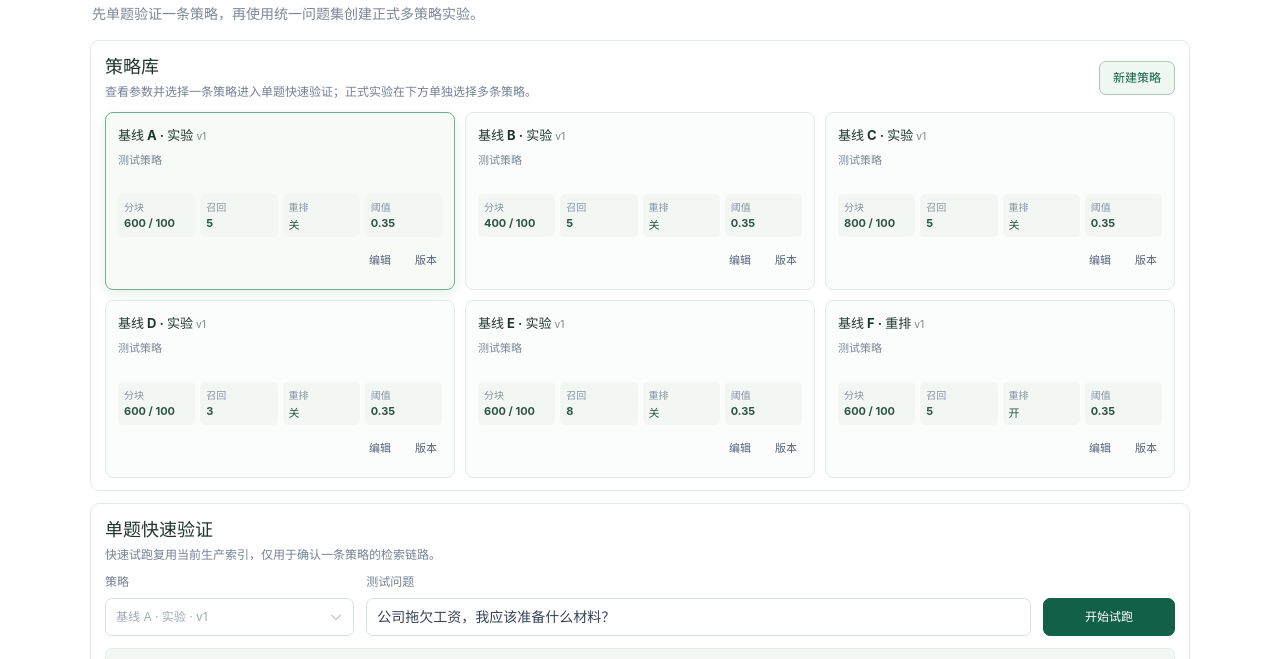
RetrievalExperimentView › shows the timeout message without misreporting a connection failure
What coordinates should you click on to do the following:
click the button "开始试跑"
I would click on:
 (1109, 617)
Its box is [1043, 598, 1175, 636].
(page scrolled)
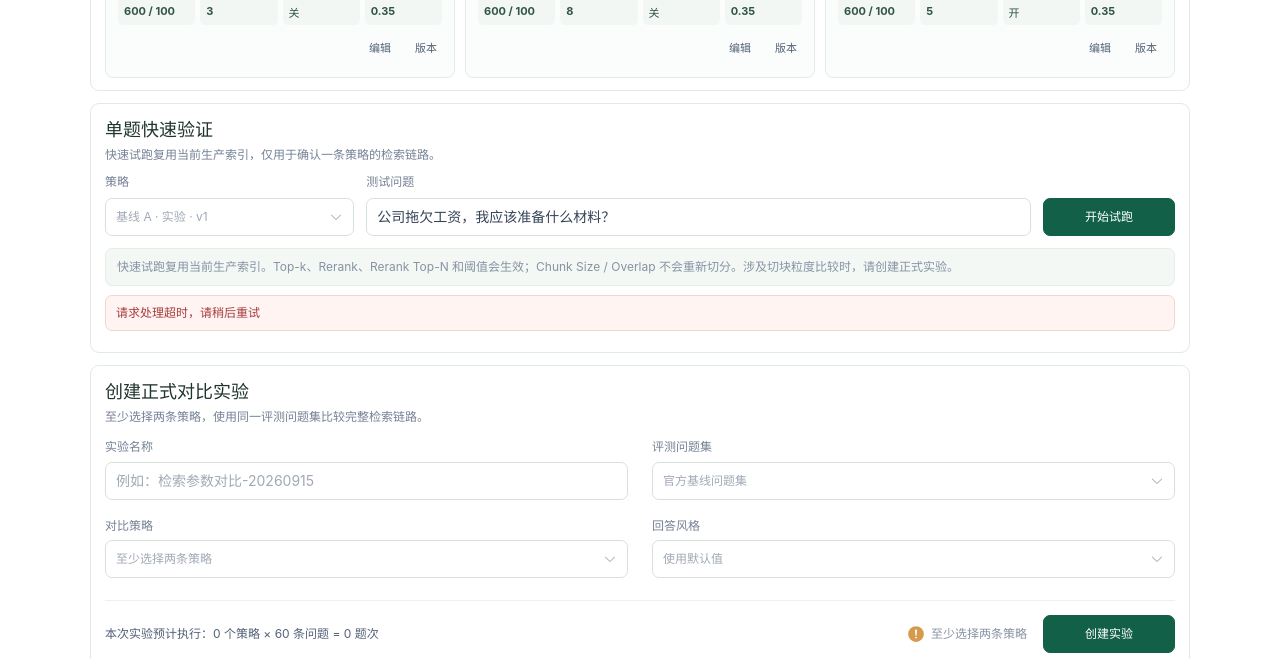
Result: the message "请求处理超时，请稍后重试" is shown at [105, 295, 1175, 331]
Result: the text "请求处理超时，请稍后重试" is shown at [105, 295, 1175, 331]
